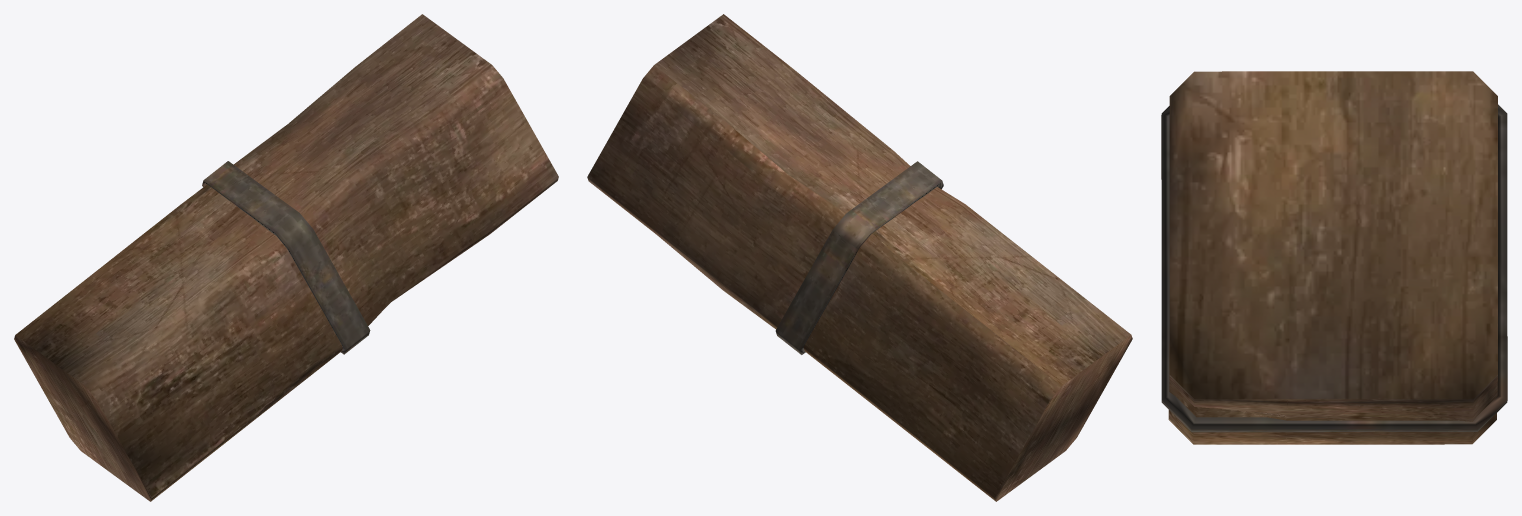
The picture shows the model from 3 angles, left to right: view 1: azimuth 30°, elevation 25°; view 2: azimuth 150°, elevation 25°; view 3: azimuth 270°, elevation 25°; orthographic projection. The views are drawn at different scales.
Visible parts, largest first — view 1: SM_BB_T3_Extended_Beam_Thick_Med_Shallow_LOD0; view 2: SM_BB_T3_Extended_Beam_Thick_Med_Shallow_LOD0; view 3: SM_BB_T3_Extended_Beam_Thick_Med_Shallow_LOD0.
Part boxes in pixels (bbox=[...]): SM_BB_T3_Extended_Beam_Thick_Med_Shallow_LOD0: bbox=[14, 14, 558, 501]; SM_BB_T3_Extended_Beam_Thick_Med_Shallow_LOD0: bbox=[587, 14, 1132, 501]; SM_BB_T3_Extended_Beam_Thick_Med_Shallow_LOD0: bbox=[1161, 71, 1507, 444].
Size of the model in its own units: 1.73 by 1.23 by 0.548.
2 materials, 2 textured.
